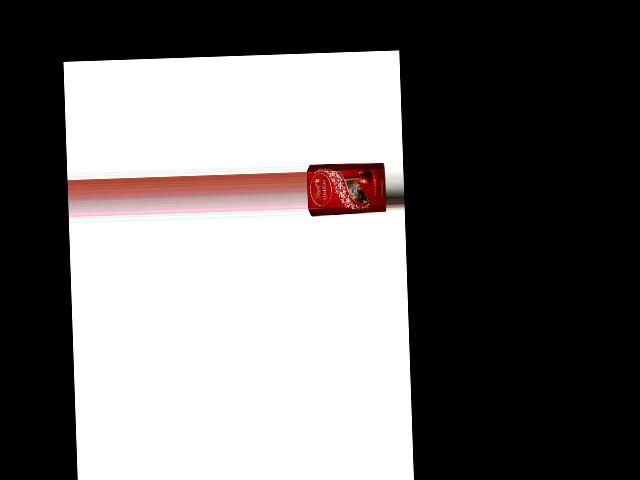chocolate: (306, 158, 387, 217)
